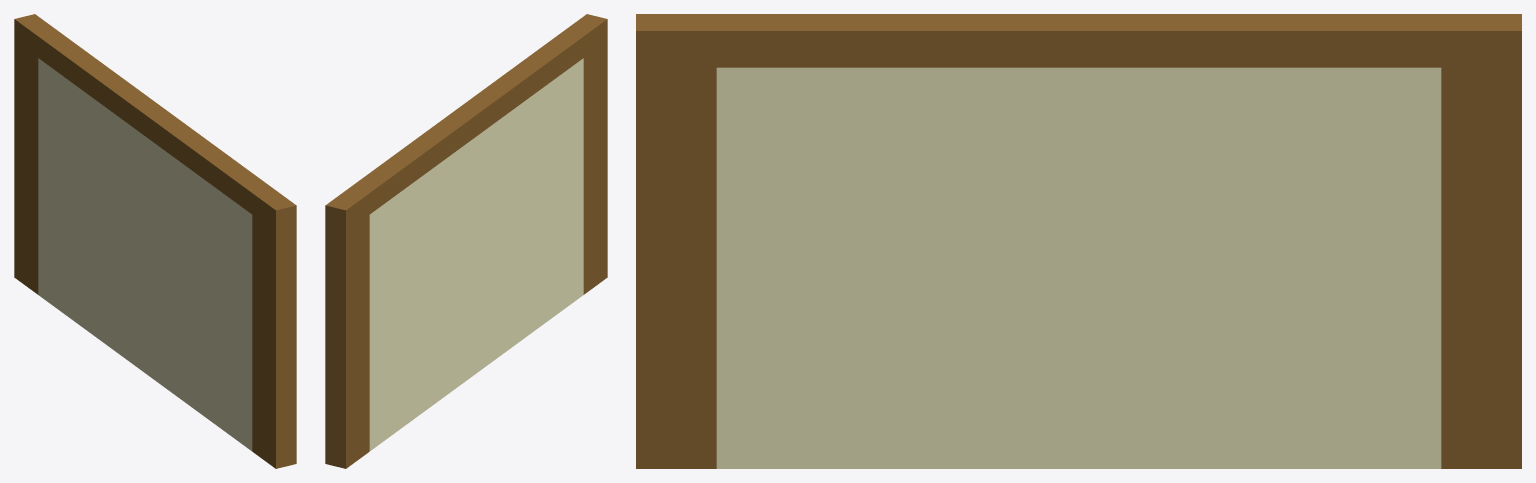
File: wall.glb
The picture shows the model from 3 angles, left to right: view 1: azimuth 30°, elevation 25°; view 2: azimuth 150°, elevation 25°; view 3: azimuth 270°, elevation 25°; orthographic projection. The views are drawn at different scales.
Parts seen in each view (by area): view 1: pl0; view 2: pl0; view 3: pl0.
Part boxes in pixels (<box>): pl0: <box>14,14,296,468</box>; pl0: <box>325,14,607,468</box>; pl0: <box>636,14,1521,468</box>.
Size of the model in its own units: 0.1 by 1.2 by 2.2.
1 material, 1 textured.
